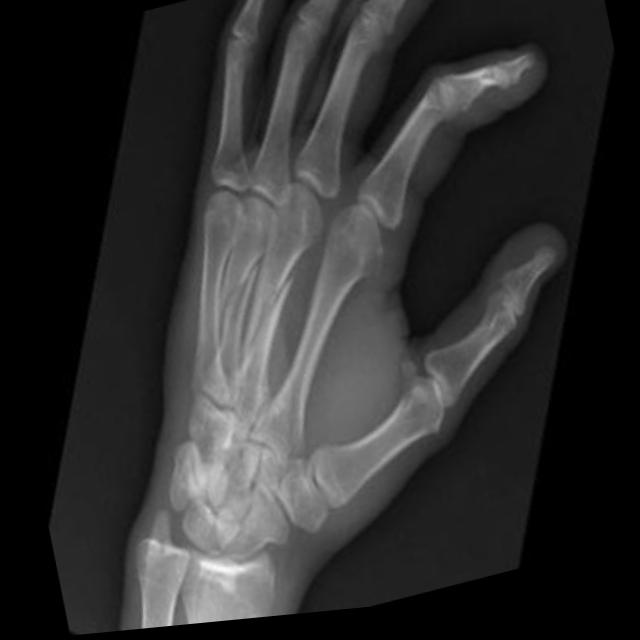fracture: (244, 271, 307, 376), (203, 256, 274, 334)
